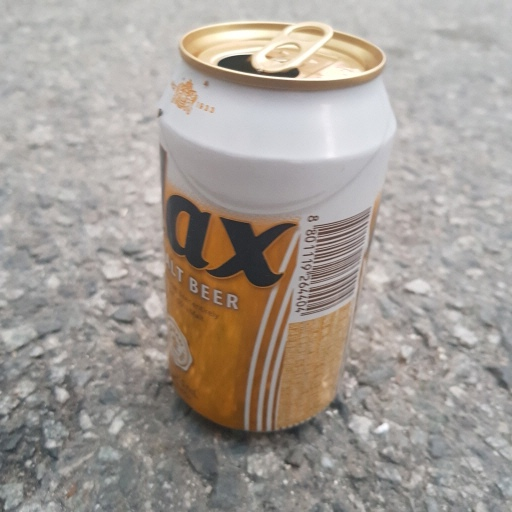Metal_0: (155, 17, 398, 437)
